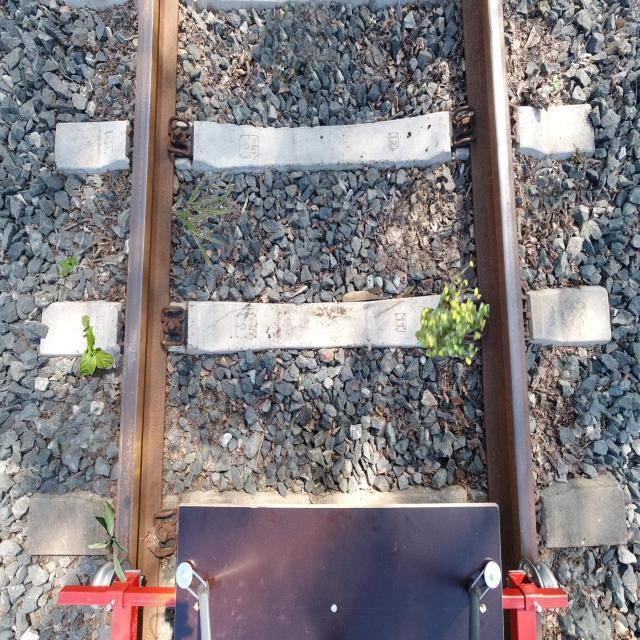Plant: (415, 261, 490, 366), (170, 176, 243, 270), (88, 501, 128, 584), (79, 315, 115, 378), (58, 254, 78, 278)
